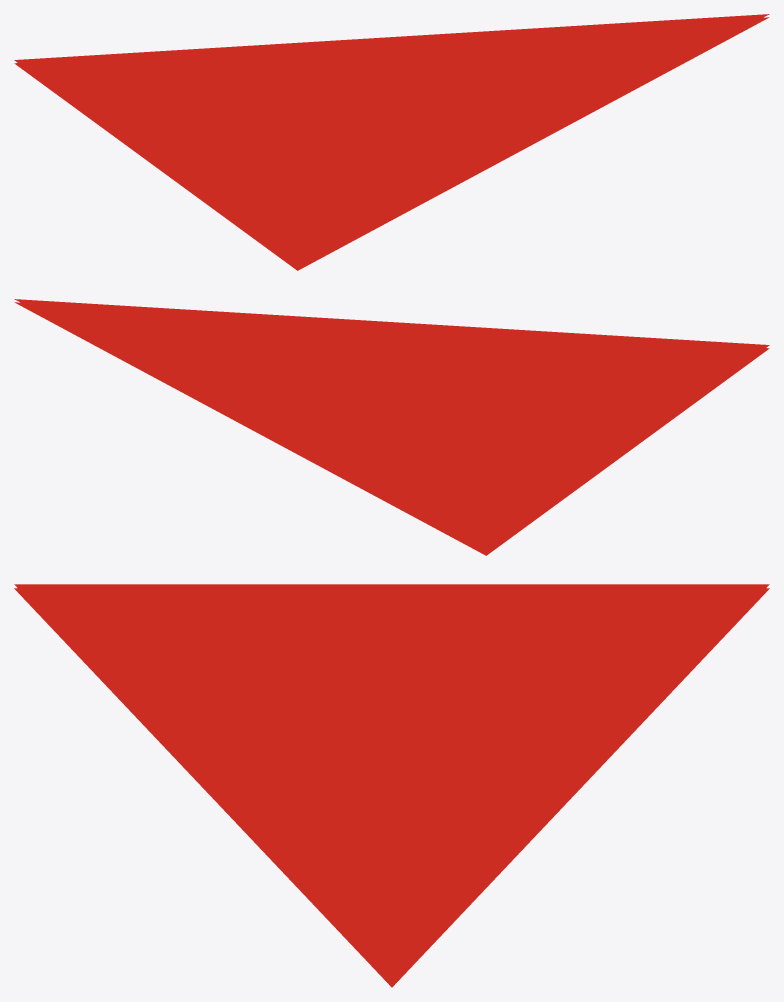
The model's file is arrow.dae.
3 views of the same model, one above another, from view 1: azimuth 30°, elevation 25°; view 2: azimuth 150°, elevation 25°; view 3: azimuth 270°, elevation 25° (orthographic). The views are drawn at different scales.
Parts seen in each view (by area): view 1: arrow; view 2: arrow; view 3: arrow.
Boxes of the visible parts, x1=… form: arrow: x1=14, y1=14, x2=769, y2=270; arrow: x1=14, y1=299, x2=769, y2=555; arrow: x1=14, y1=584, x2=769, y2=987.
Size of the model in its own units: 2 by 1.6 by 0.01.
